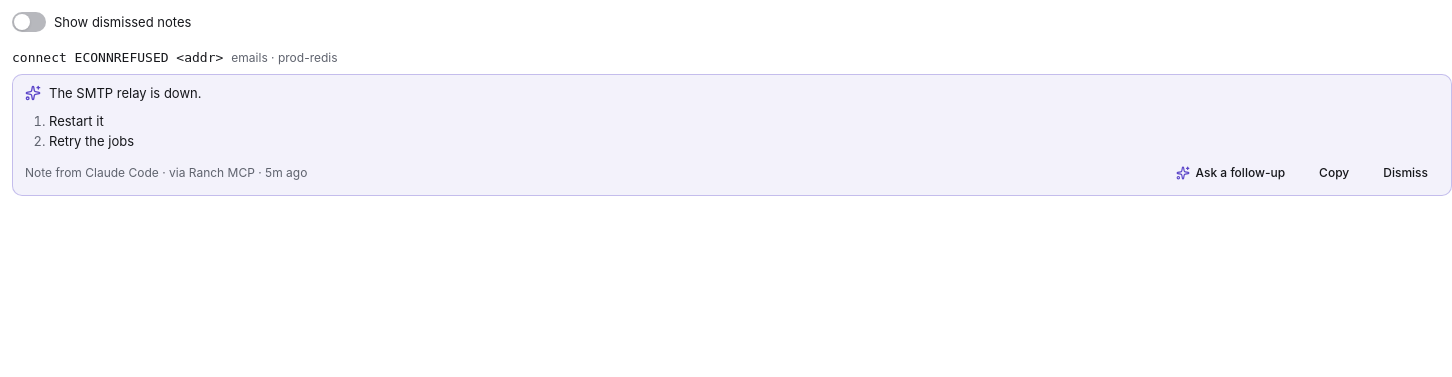
Test: Agents › Notes › lists the notes with their cause, and the dismissed ones on request
expect the number of list items with test id "agents-note" is 1: met, box [12,48,1451,196]
expect the text "connect ECONNREFUSED <addr>" is shown: met, box [12,48,223,68]
Click the switch named "Show dismissed notes" at (29, 22), box [12,12,46,32]
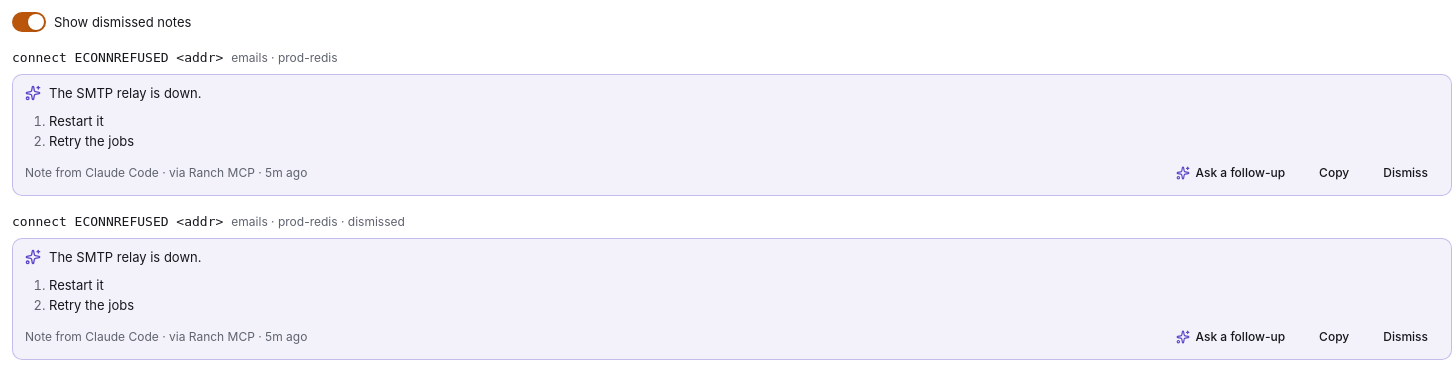
expect the number of list items with test id "agents-note" is 2: met, box [12,48,1451,196]; [12,212,1451,360]
expect the text "emails · prod-redis · dismissed" is shown: met, box [231,214,405,230]
